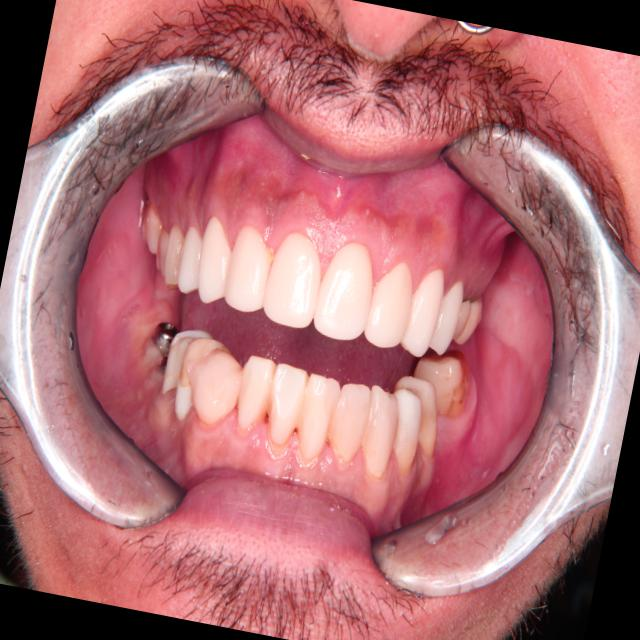tooth: (253, 212, 337, 341), (309, 232, 384, 350), (213, 207, 285, 323), (378, 366, 450, 472), (359, 246, 423, 358), (177, 341, 252, 436), (285, 361, 347, 473), (182, 202, 243, 310), (252, 353, 313, 459), (351, 379, 408, 483), (405, 342, 478, 422), (398, 254, 451, 364), (320, 373, 377, 473), (227, 345, 282, 448), (168, 331, 225, 429), (377, 380, 433, 474), (158, 321, 217, 407), (426, 265, 470, 361), (170, 212, 213, 303), (153, 217, 196, 293), (144, 212, 179, 288), (136, 200, 170, 263), (454, 288, 488, 351), (450, 288, 476, 348), (137, 205, 153, 243)
